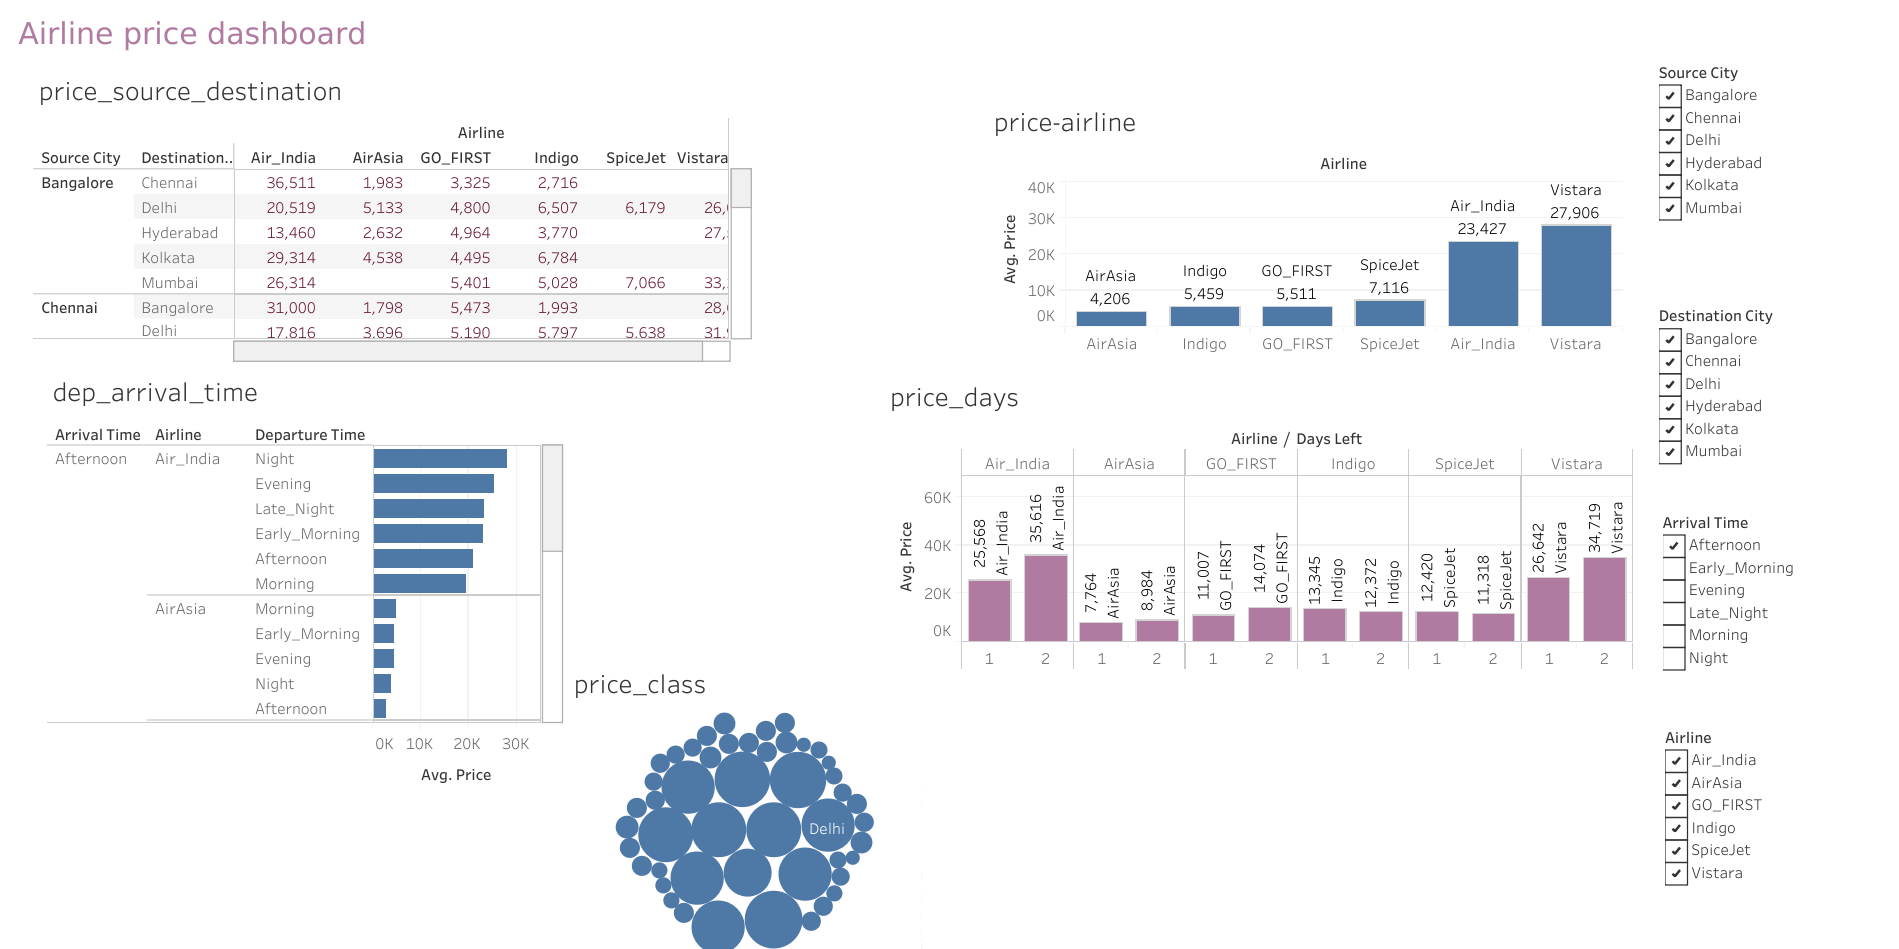

Layout of this report page (visuals, bound fields, positions):
{"tool":"tableau","page":{"name":"Dashboard 1","canvas":[1000,1000],"units":"permille","ordinal":0},"visuals":[{"type":"title","box":[5.3,9.3,989.5,52.3]},{"type":"filter","title":"price_days","param":"[federated.0lvy5620awrqf91dhvj1a19rkj0a].[none:source_city:nk]","box":[873,61.6,100.7,246.5]},{"type":"worksheet","title":"price_source_destination","mark":"Automatic","rows":["source_city","destination_city"],"cols":["airline"],"box":[17.8,68.6,378.3,312.8]},{"type":"worksheet","title":"price-airline","mark":"Automatic","rows":["price"],"cols":["airline"],"box":[520.4,101.2,333.6,270.9]},{"type":"blank","box":[501.3,105.8,362.5,269.8]},{"type":"filter","title":"price_days","param":"[federated.0lvy5620awrqf91dhvj1a19rkj0a].[none:destination_city:nk]","box":[873,318.6,102,220.9]},{"type":"worksheet","title":"dep_arrival_time","mark":"Automatic","rows":["arrival_time","airline","departure_time"],"cols":["price"],"box":[25,386.1,271.7,451.2]},{"type":"worksheet","title":"price_days","mark":"Automatic","rows":["price"],"cols":["airline","days_left"],"box":[465.8,390.7,394.1,313.9]},{"type":"filter","title":"dep_arrival_time","param":"[federated.0lvy5620awrqf91dhvj1a19rkj0a].[none:arrival_time:nk]","box":[875,536,85.5,220.9]},{"type":"worksheet","title":"price_class","mark":"Circle","box":[299.3,691.9,249.3,311.6]},{"type":"filter","title":"dep_arrival_time","param":"[federated.0lvy5620awrqf91dhvj1a19rkj0a].[none:airline:nk]","box":[876.3,761.6,102.6,233.7]}]}

Visuals, with their boxes on the dashboard's canvas, which has no fixed pixel size, in thousandths of its width and height (x1, y1, x2, y2). These are canvas units, not pixel positions in the 1899x949 screenshot, which may show the page scaled, cropped or inside an application window:
title: x1=5 y1=9 x2=995 y2=62
"price_days" filter: x1=873 y1=62 x2=974 y2=308
"price_source_destination" worksheet: x1=18 y1=69 x2=396 y2=381
"price-airline" worksheet: x1=520 y1=101 x2=854 y2=372
blank: x1=501 y1=106 x2=864 y2=376
"price_days" filter: x1=873 y1=319 x2=975 y2=540
"dep_arrival_time" worksheet: x1=25 y1=386 x2=297 y2=837
"price_days" worksheet: x1=466 y1=391 x2=860 y2=705
"dep_arrival_time" filter: x1=875 y1=536 x2=960 y2=757
"price_class" worksheet (Circle marks): x1=299 y1=692 x2=549 y2=1004
"dep_arrival_time" filter: x1=876 y1=762 x2=979 y2=995
